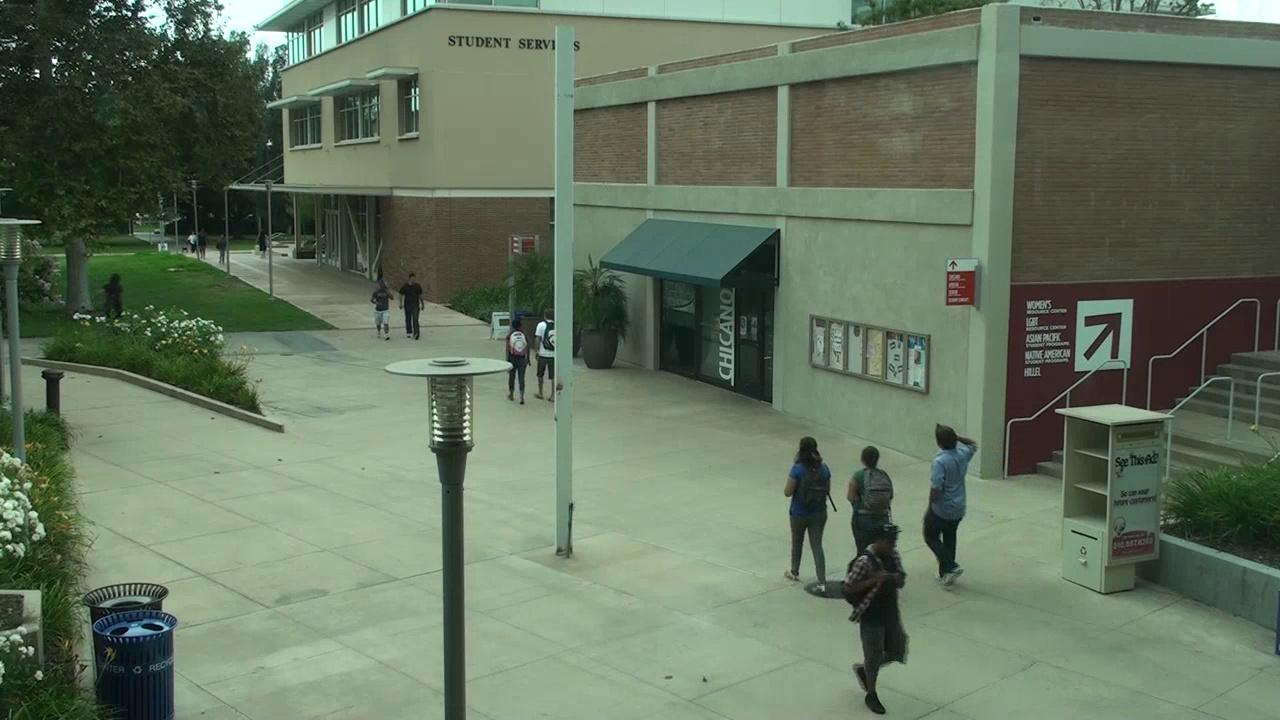person: (845, 526, 908, 714), (923, 426, 977, 584), (784, 436, 831, 590), (847, 446, 892, 547), (506, 316, 528, 404), (535, 308, 554, 397), (400, 273, 424, 339), (371, 281, 392, 339), (257, 230, 265, 255)
